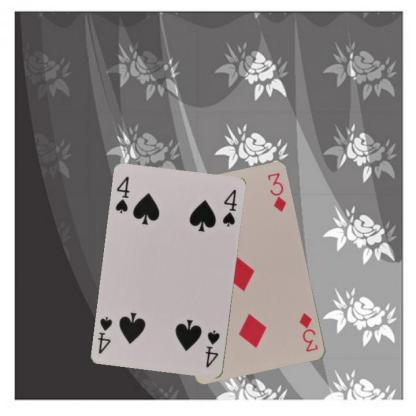3d: (297, 310, 320, 354)
4s: (113, 174, 132, 216), (202, 328, 221, 369)
